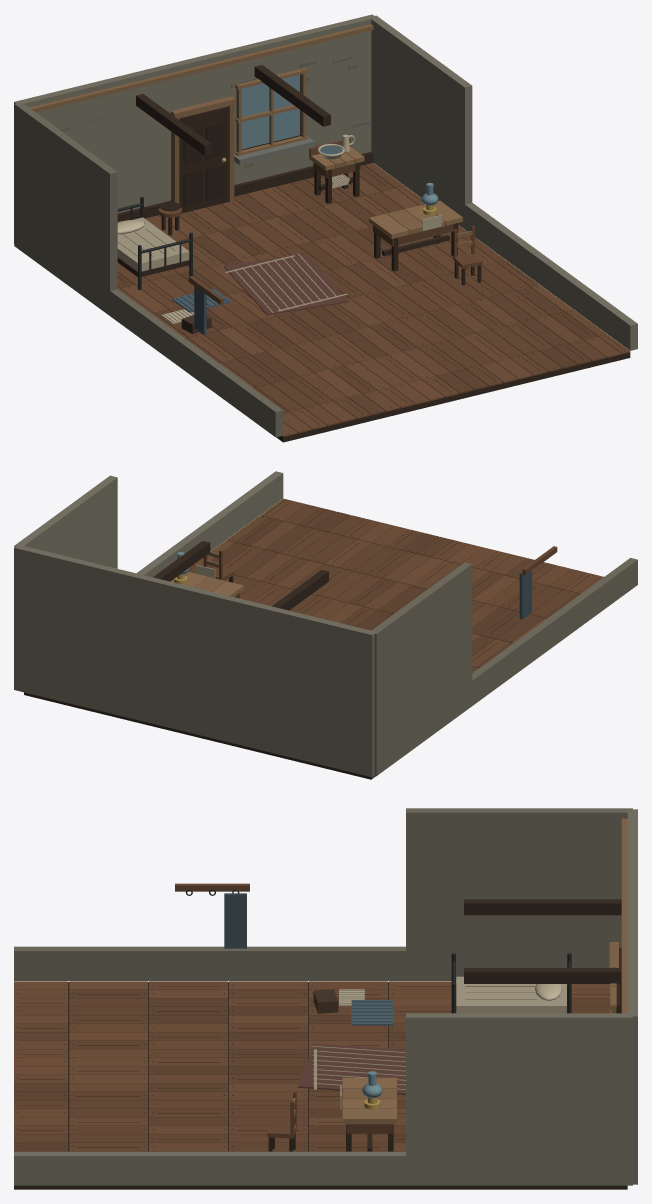
The model's file is nora-room.glb.
3 renders of one model, top to bottom at view 1: azimuth 30°, elevation 25°; view 2: azimuth 150°, elevation 25°; view 3: azimuth 270°, elevation 25°, orthographic. The views are drawn at different scales.
Visible parts, largest first — view 1: nora-room-wood, nora-room-plaster, nora-room-woodDark, nora-room-woodLight, nora-room-linen, nora-room-red, nora-room-glass, nora-room-iron, nora-room-blue, nora-room-stone; view 2: nora-room-plaster, nora-room-wood, nora-room-woodDark, nora-room-woodLight, nora-room-blue; view 3: nora-room-plaster, nora-room-wood, nora-room-woodDark, nora-room-linen, nora-room-woodLight, nora-room-red, nora-room-blue, nora-room-iron, nora-room-leather.
Part boxes in pixels (<box>): nora-room-wood: <box>117,138,630,436</box>; nora-room-plaster: <box>14,14,637,437</box>; nora-room-woodDark: <box>117,65,630,442</box>; nora-room-woodLight: <box>29,24,472,256</box>; nora-room-linen: <box>117,134,441,324</box>; nora-room-red: <box>224,253,348,315</box>; nora-room-glass: <box>241,74,438,205</box>; nora-room-iron: <box>117,185,624,432</box>; nora-room-blue: <box>172,286,230,334</box>; nora-room-stone: <box>234,135,314,164</box>; nora-room-plaster: <box>14,471,637,777</box>; nora-room-wood: <box>188,498,603,673</box>; nora-room-woodDark: <box>24,501,589,779</box>; nora-room-woodLight: <box>171,551,243,596</box>; nora-room-blue: <box>519,571,531,619</box>; nora-room-plaster: <box>14,808,637,1185</box>; nora-room-wood: <box>14,883,610,1151</box>; nora-room-woodDark: <box>14,899,627,1189</box>; nora-room-linen: <box>312,976,566,1109</box>; nora-room-woodLight: <box>292,818,627,1123</box>; nora-room-red: <box>298,1043,405,1094</box>; nora-room-blue: <box>224,893,392,1025</box>; nora-room-iron: <box>17,889,571,1146</box>; nora-room-leather: <box>313,989,338,1013</box>.
Bounding box in the file's own units: 9.6 × 3.77 × 12.1.
